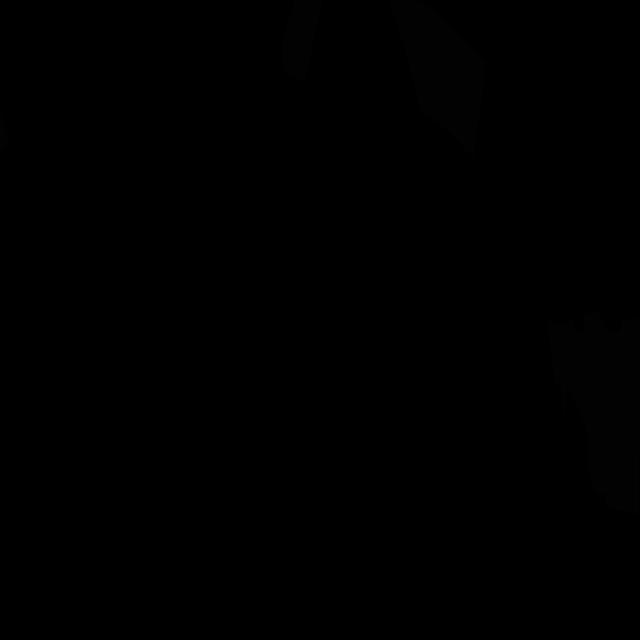cardboard: (547, 312, 640, 515), (389, 0, 485, 159), (282, 0, 323, 81), (0, 112, 10, 150)
